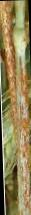Wheat: (9, 70, 31, 168)
